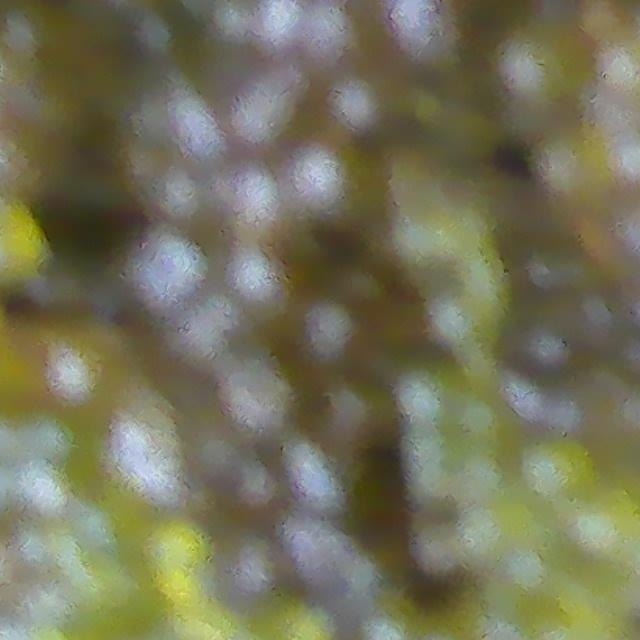SeaGrape: (520, 433, 600, 508), (231, 166, 290, 242), (143, 238, 192, 314), (171, 87, 217, 164), (306, 294, 348, 373), (238, 78, 292, 139), (301, 154, 355, 214), (229, 248, 278, 311), (341, 99, 399, 146), (308, 19, 350, 70), (250, 1, 294, 39)
